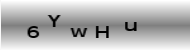6: (26, 25, 39, 38)
H: (94, 24, 109, 39)
Y: (47, 13, 62, 28)
u: (124, 21, 138, 32)
w: (69, 27, 88, 38)
